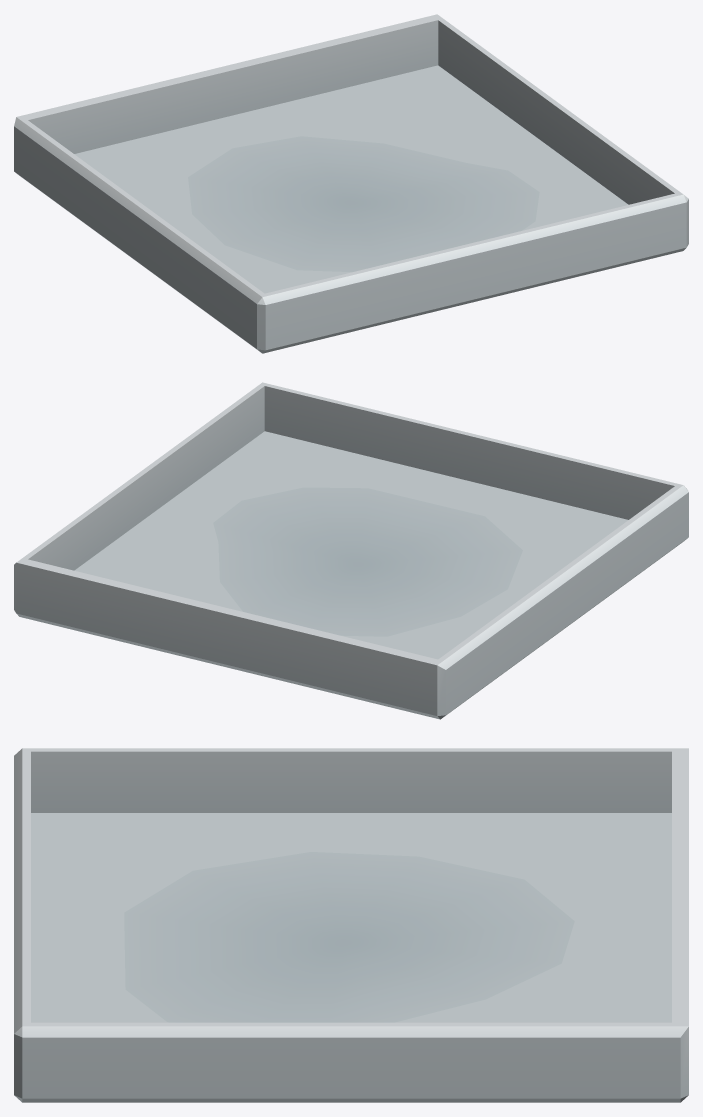
The model's file is pizzabox_open.obj.
The picture shows the model from 3 angles, top to bottom: view 1: azimuth 30°, elevation 25°; view 2: azimuth 150°, elevation 25°; view 3: azimuth 270°, elevation 25°; orthographic projection. The views are drawn at different scales.
Parts seen in each view (by area): view 1: pizzabox_open_Cube.077; view 2: pizzabox_open_Cube.077; view 3: pizzabox_open_Cube.077.
Part boxes in pixels (x1,y1,x2,y2): pizzabox_open_Cube.077: (14,14,688,353); pizzabox_open_Cube.077: (14,382,688,719); pizzabox_open_Cube.077: (14,748,688,1102).
Bounding box in the file's own units: 2 × 0.25 × 2.
1 material, 1 textured.
